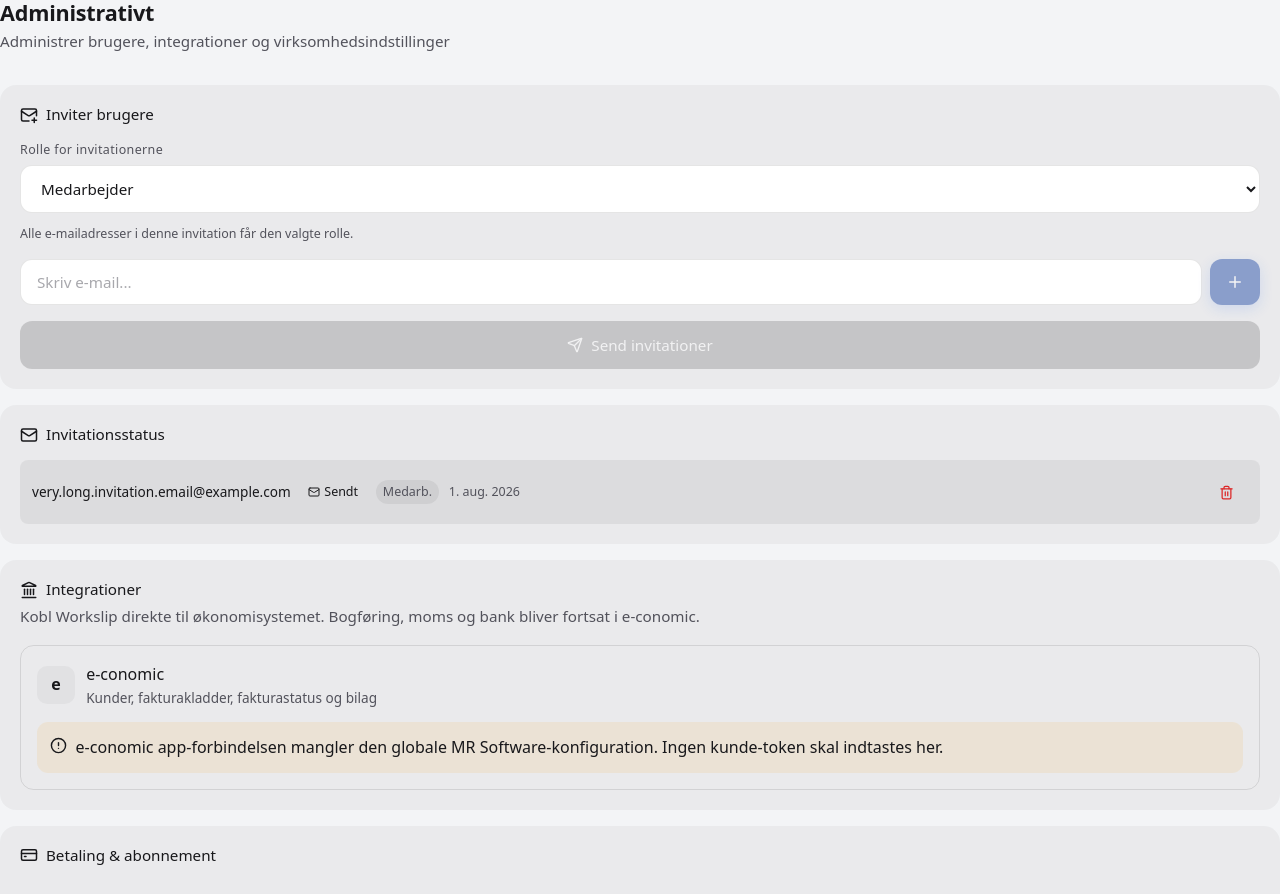
Test: Settings invitation role › retains failed recipients and shows the role-change instruction inline
Step 1. Type "blocked@example.com" into the field with placeholder "Skriv e-mail..." → (611, 282), box [20,259,1202,305]
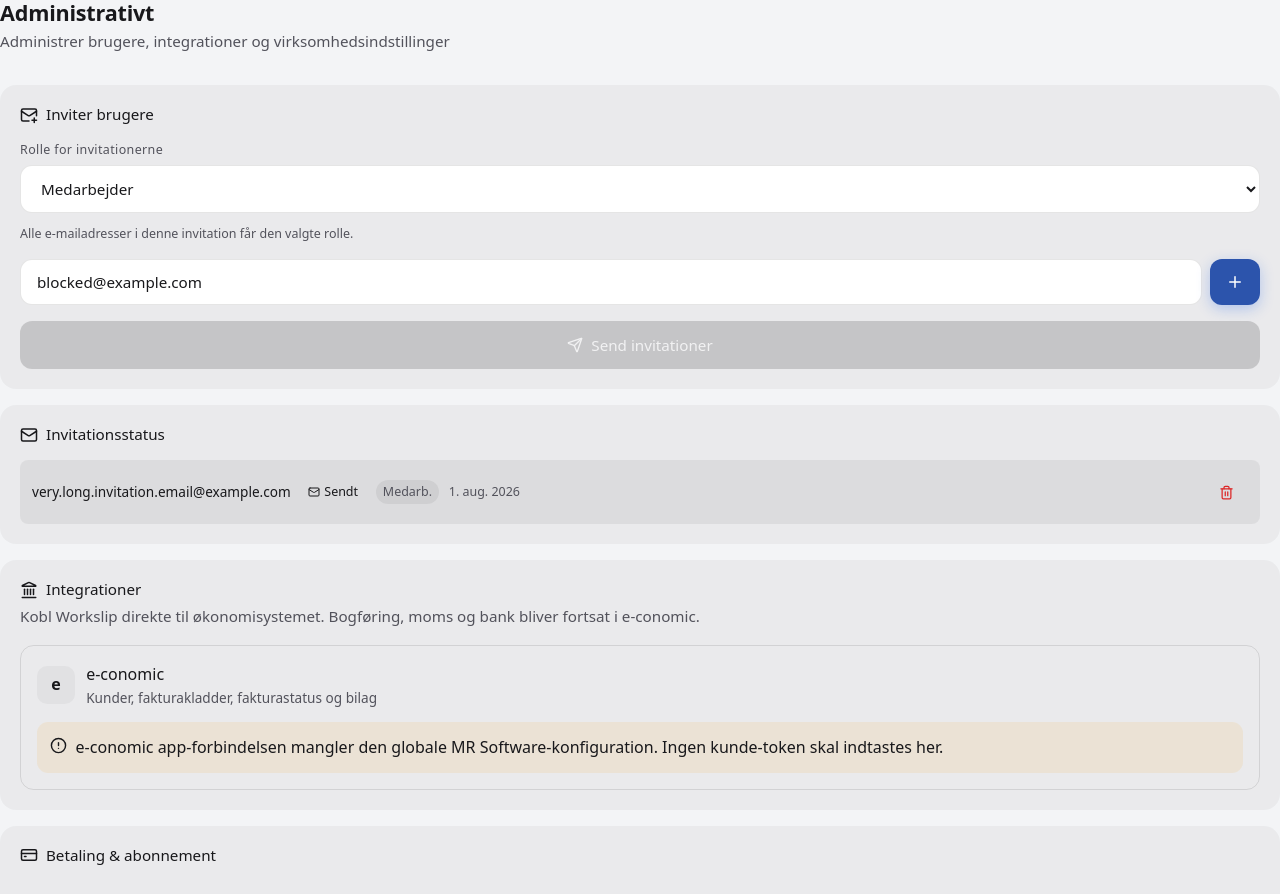
Step 2. Click the button named "Tilføj e-mail" → click(1235, 282), box [1210,259,1260,305]
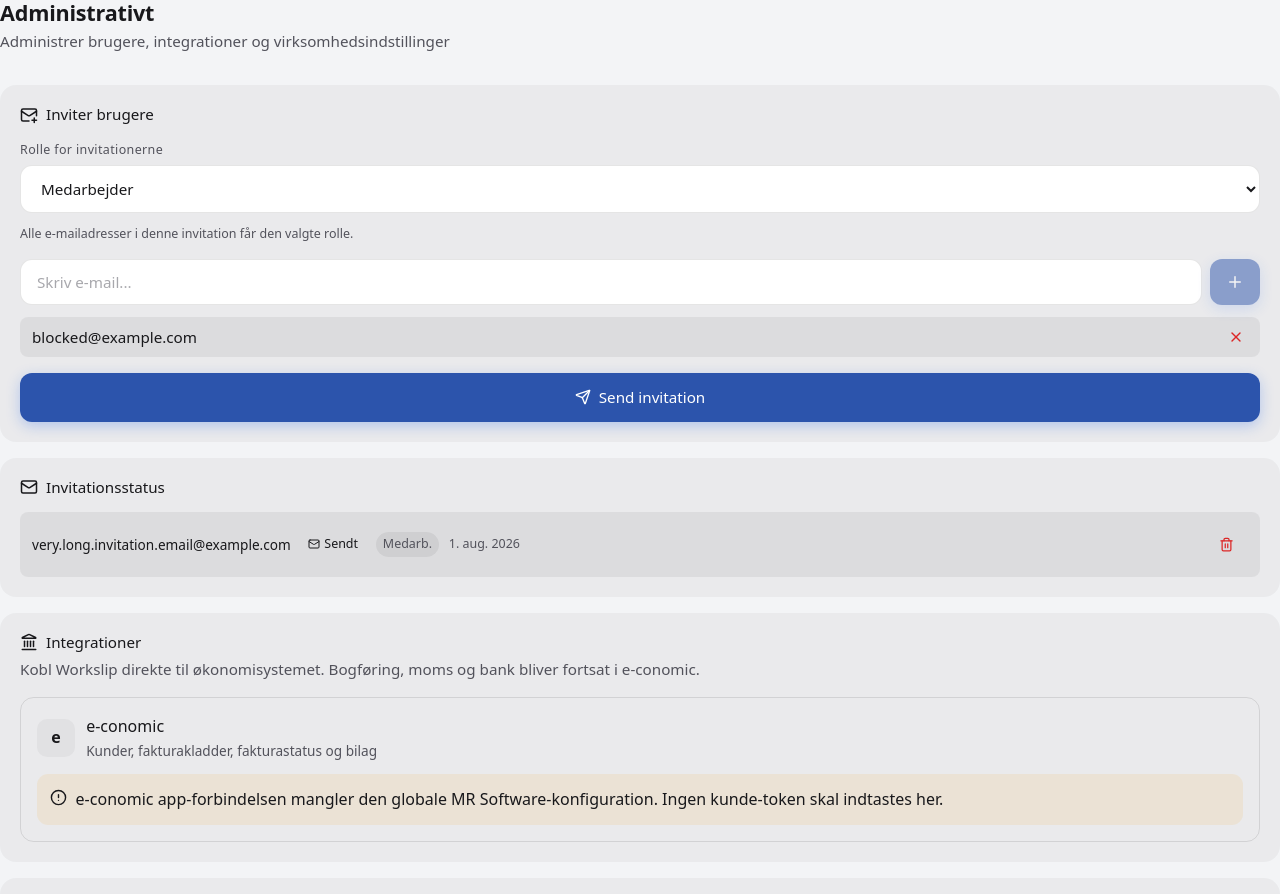
Step 3. Click the button "Send invitation" → click(640, 397), box [20,373,1260,422]
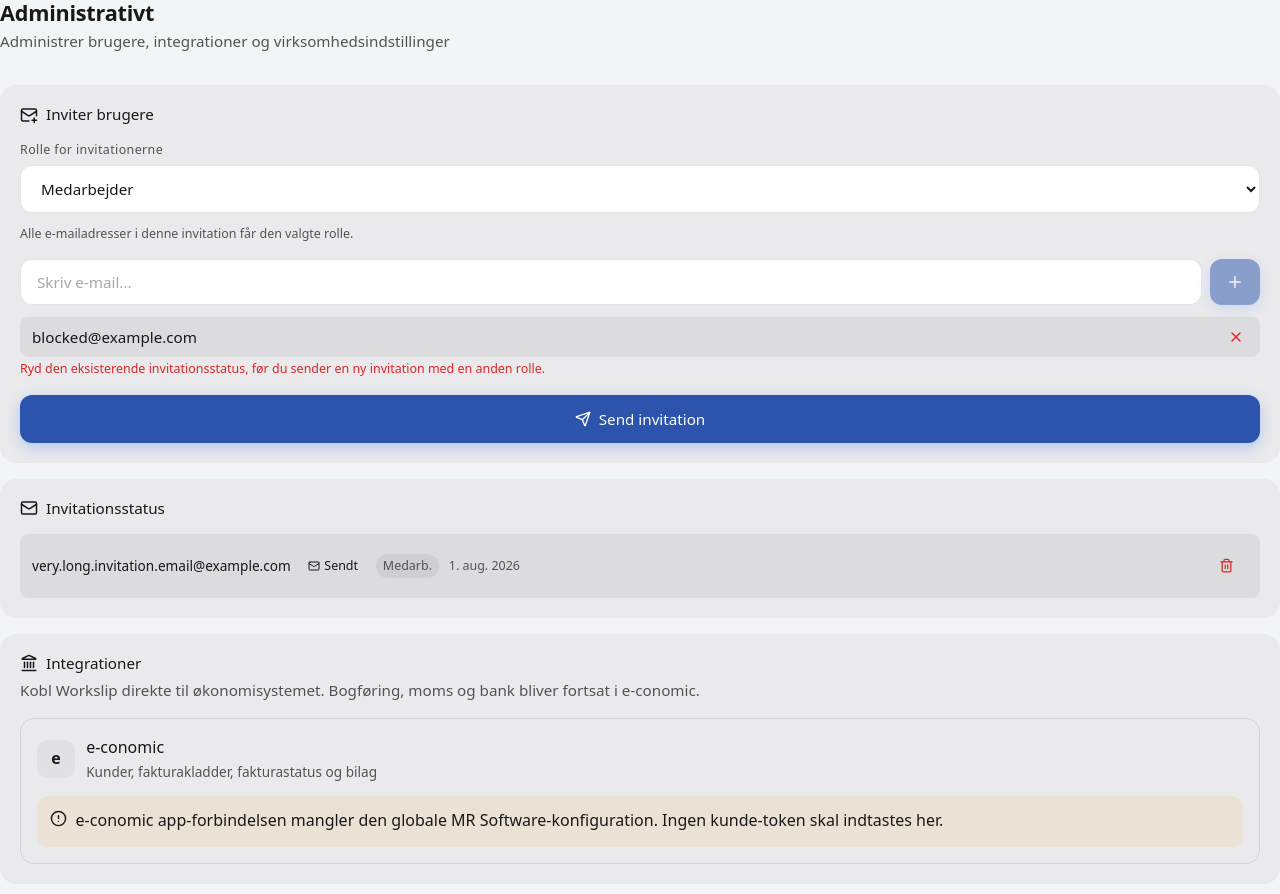
Expected: the text "blocked@example.com" is shown, [32,325,197,349]
Expected: the 1st message shows "Ryd den eksisterende invitationsstatus, før du sender en ny invitation med en anden rolle.", [20,360,545,377]
